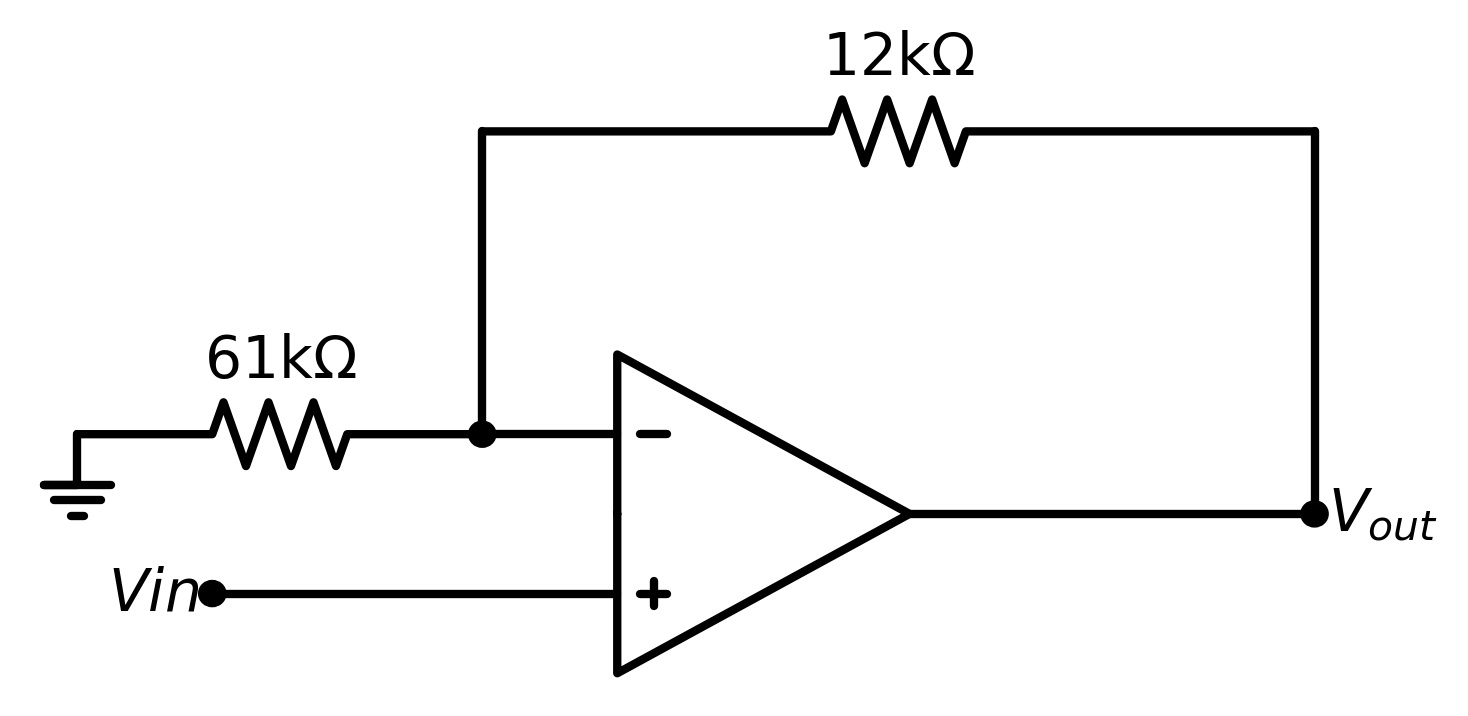ground: (24, 466, 133, 535)
opamp: (566, 335, 928, 681)
resistor: (809, 87, 999, 180), (198, 394, 364, 485)
